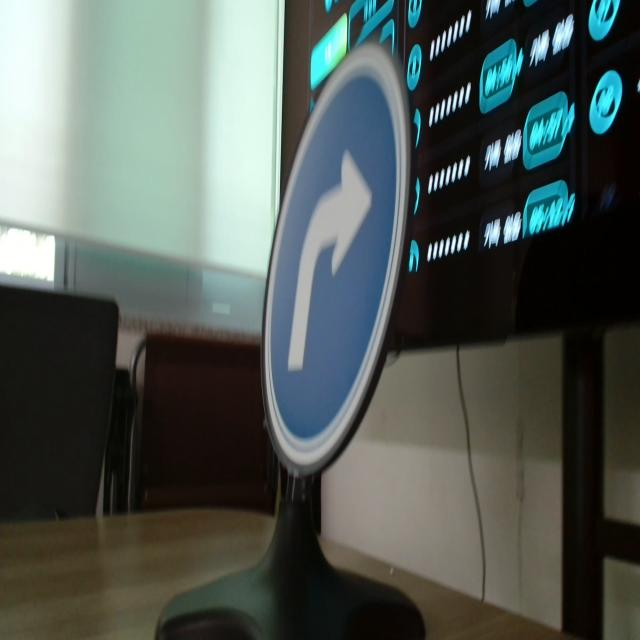right_dierection: (261, 6, 445, 541)
